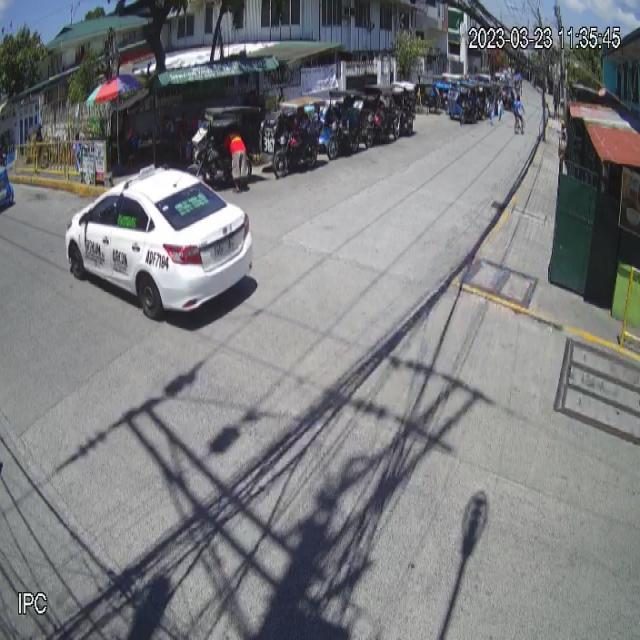Car: (65, 164, 253, 319)
